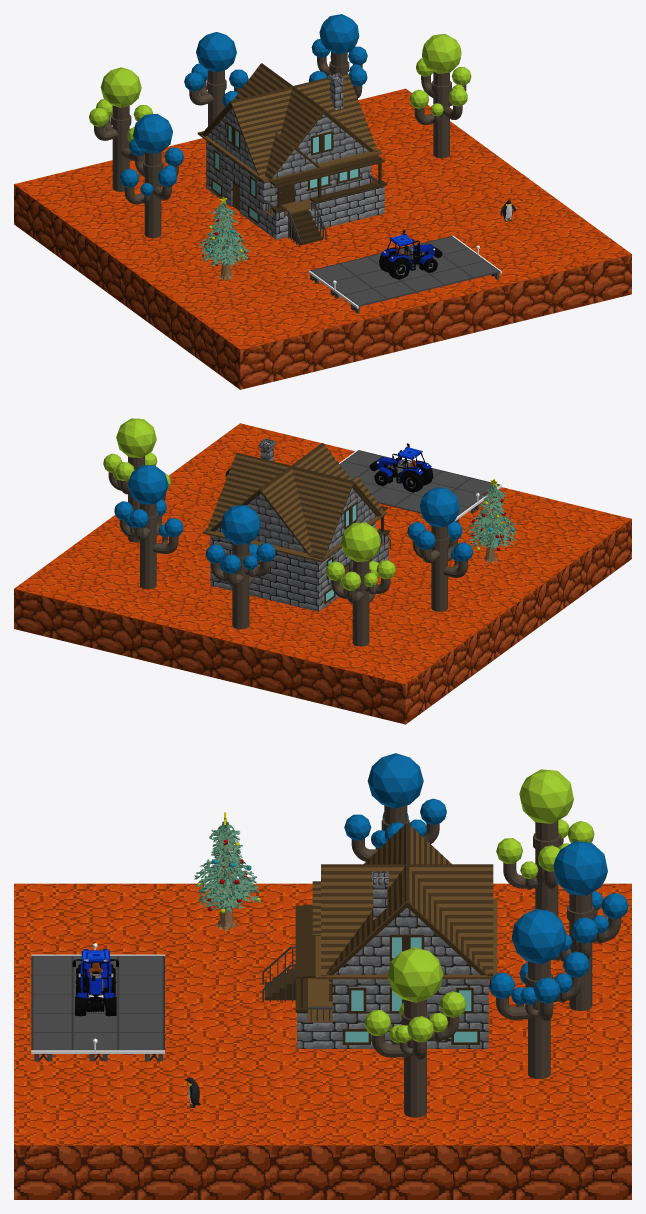
The picture shows the model from 3 angles, top to bottom: view 1: azimuth 30°, elevation 25°; view 2: azimuth 150°, elevation 25°; view 3: azimuth 270°, elevation 25°; orthographic projection. The views are drawn at different scales.
Parts seen in each view (by area): view 1: Cube.001, Cube.586, OBJRANDOM_CHRISTMAS_TREE, VEHICLES_TRACTOR; view 2: Cube.001, Cube.586, OBJRANDOM_CHRISTMAS_TREE, VEHICLES_TRACTOR; view 3: Cube.001, Cube.586, OBJRANDOM_CHRISTMAS_TREE, VEHICLES_TRACTOR.
Part boxes in pixels (bbox=[...]): Cube.001: bbox=[14, 14, 631, 389]; Cube.586: bbox=[197, 63, 387, 246]; OBJRANDOM_CHRISTMAS_TREE: bbox=[198, 196, 250, 280]; VEHICLES_TRACTOR: bbox=[379, 230, 442, 279]; Cube.001: bbox=[14, 418, 631, 724]; Cube.586: bbox=[202, 438, 390, 611]; OBJRANDOM_CHRISTMAS_TREE: bbox=[466, 479, 516, 563]; VEHICLES_TRACTOR: bbox=[369, 443, 432, 492]; Cube.001: bbox=[14, 753, 631, 1199]; Cube.586: bbox=[262, 823, 497, 1048]; OBJRANDOM_CHRISTMAS_TREE: bbox=[194, 812, 261, 930]; VEHICLES_TRACTOR: bbox=[72, 949, 118, 1016].
Size of the model in its own units: 4000 by 1672 by 4000.
Materials: 30 (5 with a texture image).
